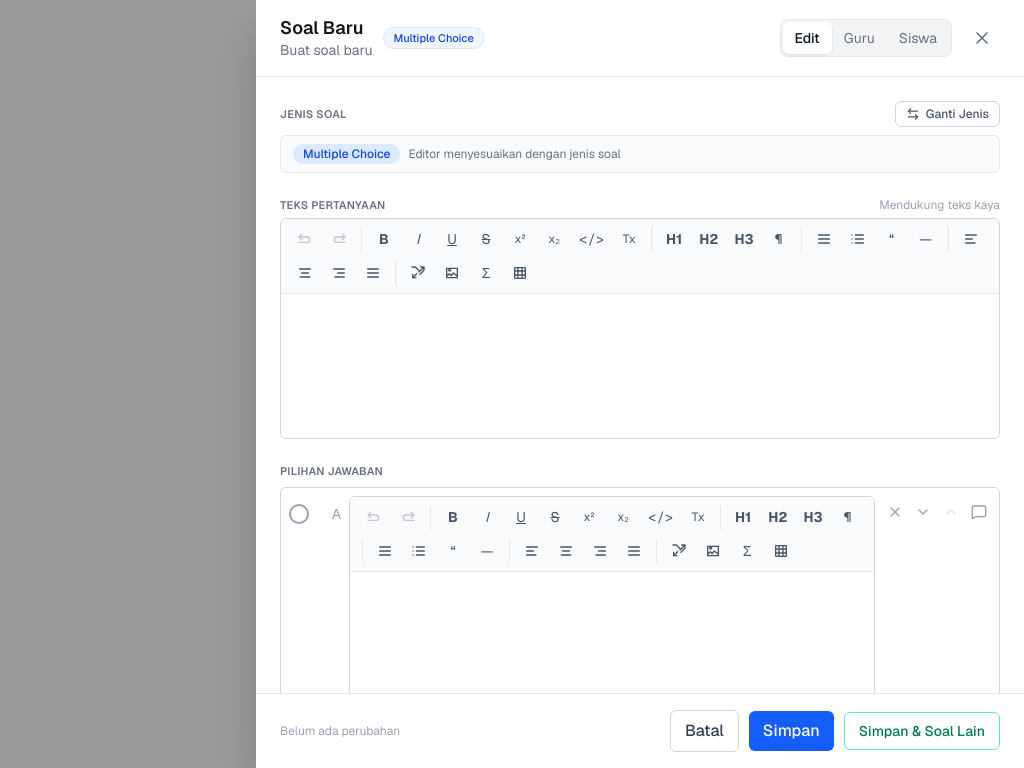
Test case: QuestionEditor — ganti jenis soal › beralih ke true/false otomatis menulis opsi True dan False
Step 1. Click the button with test id "question-type-switch" → (947, 114), box [895,101,1000,127]
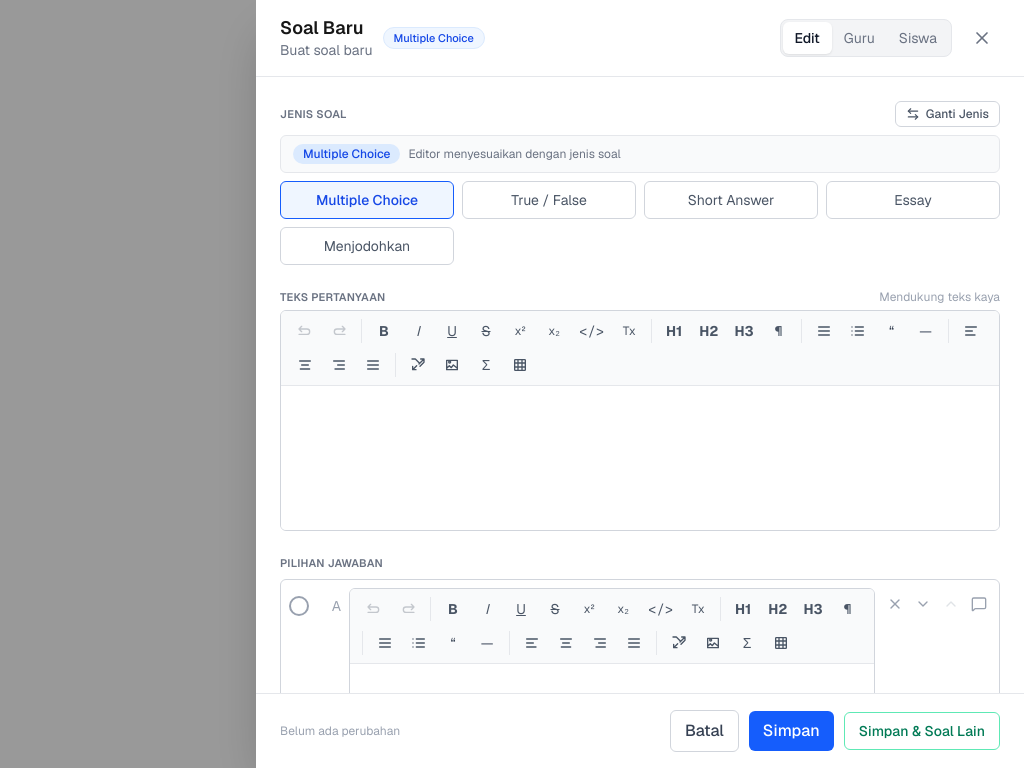
Step 2. Click the button with test id "question-type-option-true_false" → (549, 200), box [462,181,636,219]
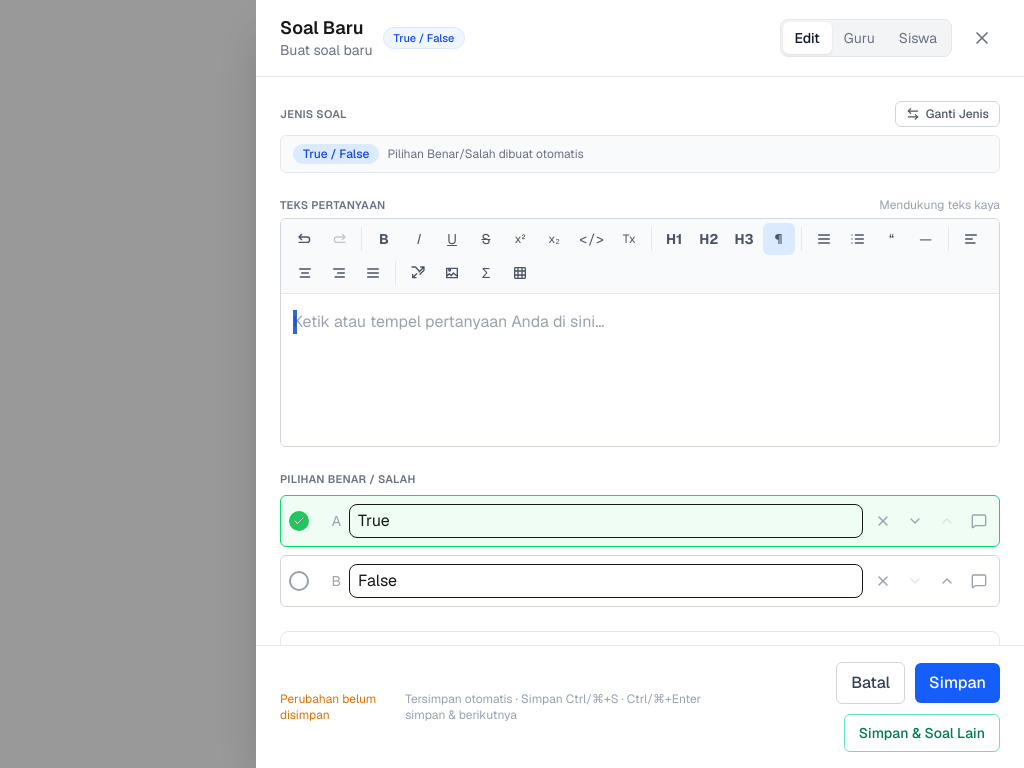
Now the text with test id "current-question-type" reads "True / False", box [303,146,369,162]
Now the field named "Pilihan A" holds "True", box [349,504,863,538]
Now the field named "Pilihan B" holds "False", box [349,564,863,598]
